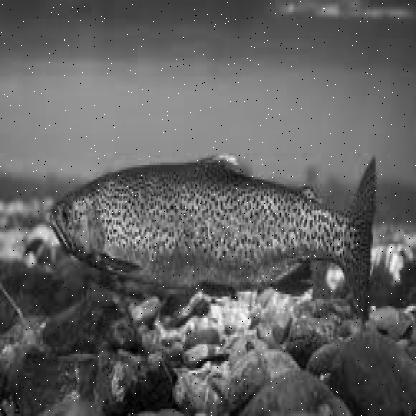fish: (51, 152, 376, 314)
